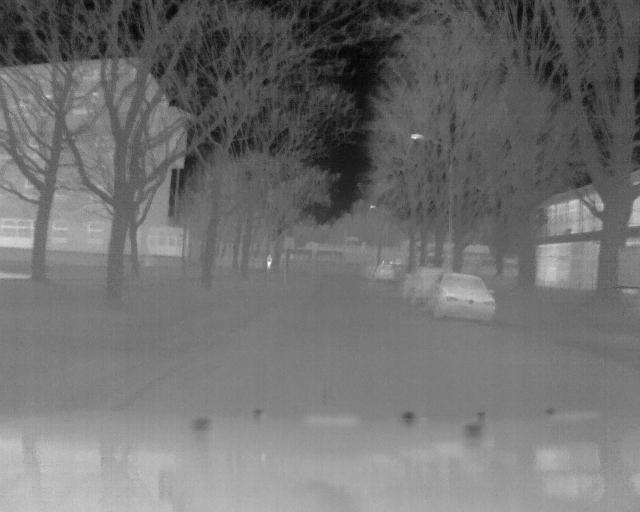car: (423, 268, 502, 327)
